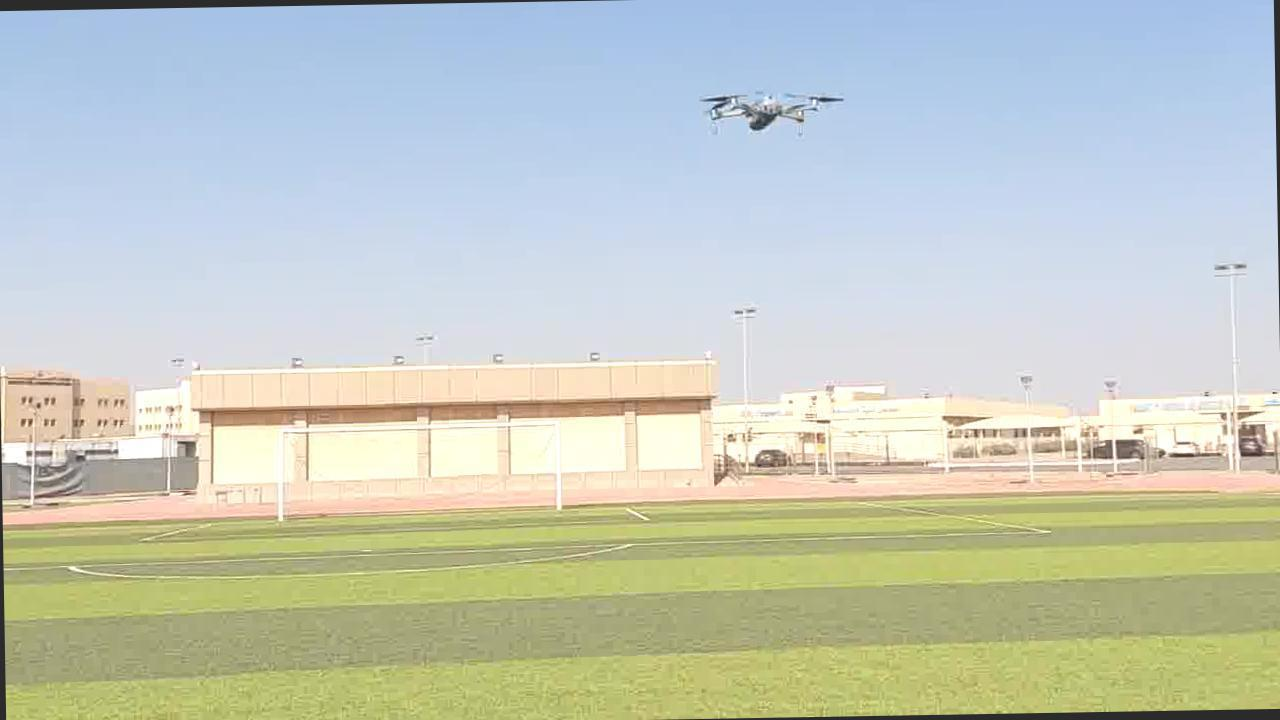drone: (698, 91, 847, 138)
